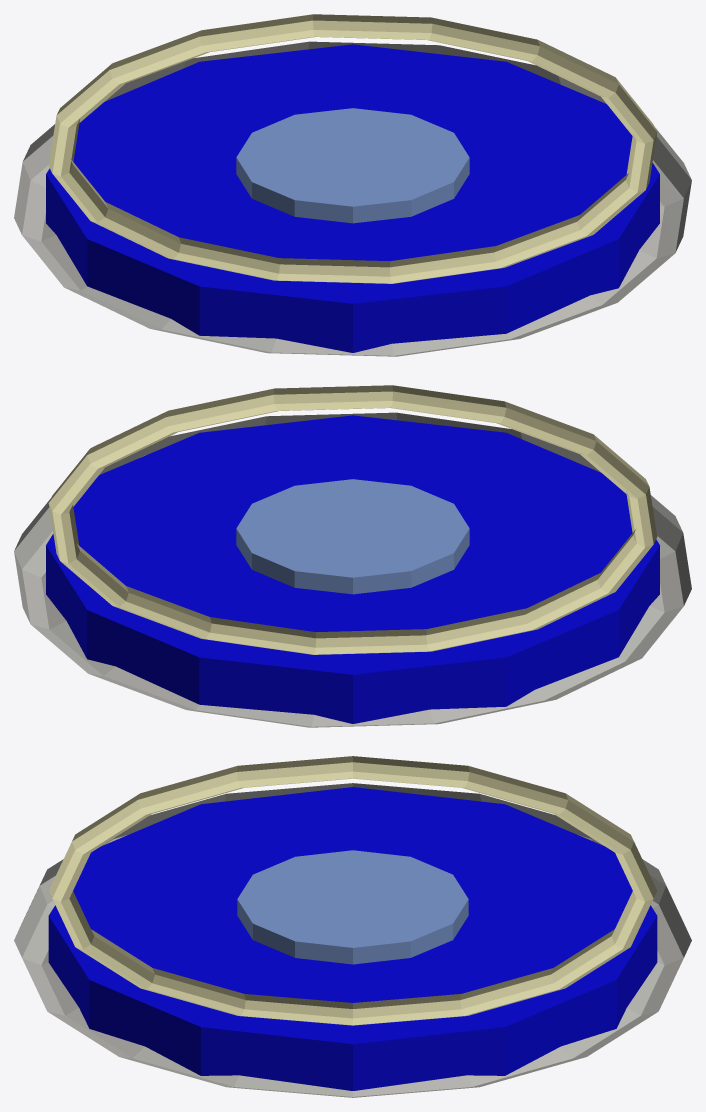
The model's file is _left-large.glb.
3 renders of one model, top to bottom at view 1: azimuth 30°, elevation 25°; view 2: azimuth 150°, elevation 25°; view 3: azimuth 270°, elevation 25°, orthographic.
Size of the model in its own units: 0.557 by 0.0775 by 0.557.
